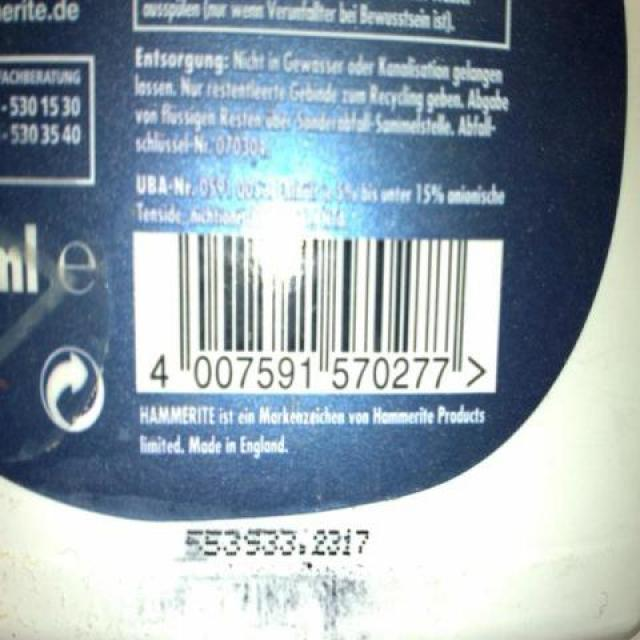Barcode: (132, 228, 504, 393)
